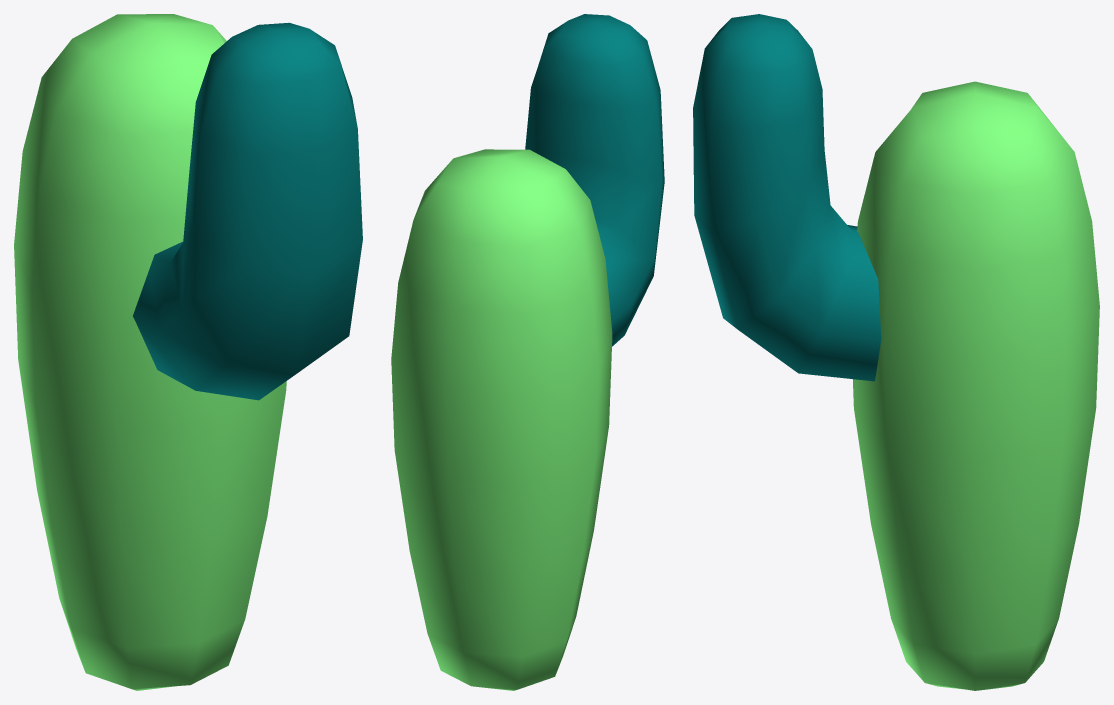
The model's file is Cactus01.fbx.
The picture shows the model from 3 angles, left to right: view 1: azimuth 30°, elevation 25°; view 2: azimuth 150°, elevation 25°; view 3: azimuth 270°, elevation 25°; orthographic projection. The views are drawn at different scales.
Parts seen in each view (by area): view 1: Low_Cactus01; view 2: Low_Cactus01; view 3: Low_Cactus01.
Boxes of the visible parts, x1,y1,x2,y2 form: Low_Cactus01: [14, 14, 362, 690]; Low_Cactus01: [391, 14, 664, 690]; Low_Cactus01: [693, 14, 1099, 690].
Bounding box in the file's own units: 295 × 848 × 480.
